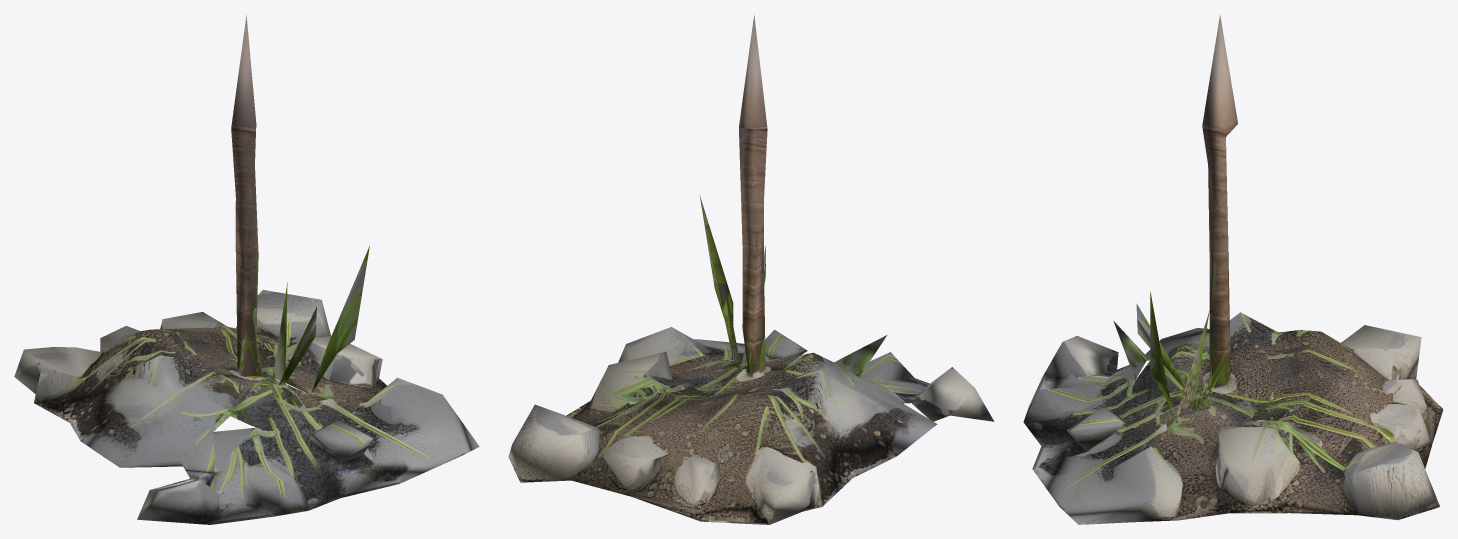
Rendered from TripoModel.glb.
The picture shows the model from 3 angles, left to right: view 1: azimuth 30°, elevation 25°; view 2: azimuth 150°, elevation 25°; view 3: azimuth 270°, elevation 25°; orthographic projection. The views are drawn at different scales.
Visible parts, largest first — view 1: tripo_node_0b3c7311-129e-4b78-b1a9-f106126e0d03; view 2: tripo_node_0b3c7311-129e-4b78-b1a9-f106126e0d03; view 3: tripo_node_0b3c7311-129e-4b78-b1a9-f106126e0d03.
Boxes of the visible parts, x1=… form: tripo_node_0b3c7311-129e-4b78-b1a9-f106126e0d03: x1=14, y1=15, x2=479, y2=524; tripo_node_0b3c7311-129e-4b78-b1a9-f106126e0d03: x1=508, y1=15, x2=994, y2=524; tripo_node_0b3c7311-129e-4b78-b1a9-f106126e0d03: x1=1023, y1=14, x2=1443, y2=524.
Size of the model in its own units: 0.8448 by 1.01 by 0.8899.
Materials: 1 (1 with a texture image).
